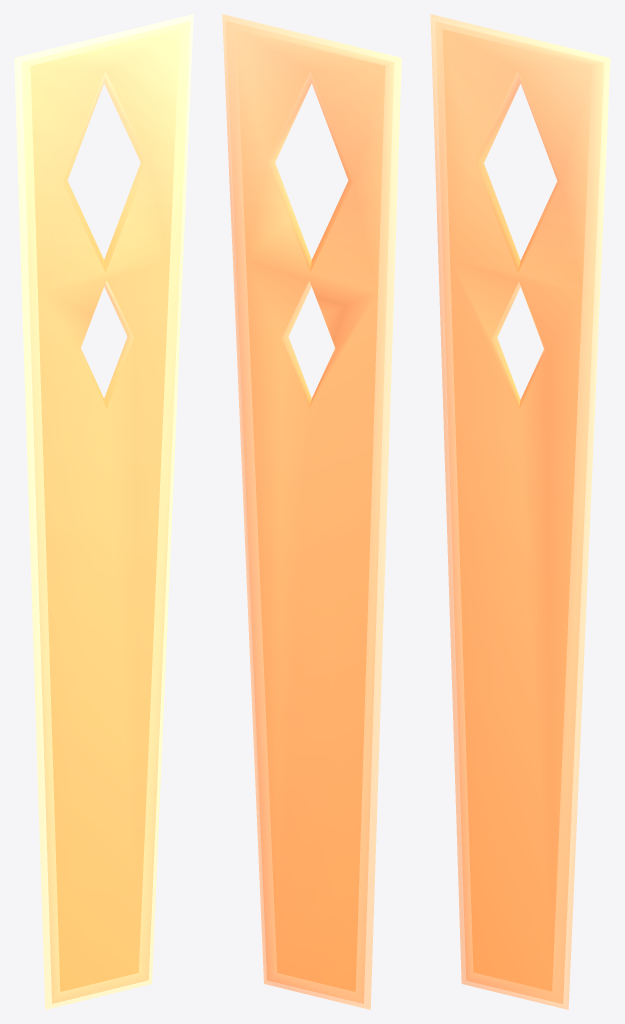
Rendered from wood_blade (3).glb.
The picture shows the model from 3 angles, left to right: view 1: azimuth 30°, elevation 25°; view 2: azimuth 150°, elevation 25°; view 3: azimuth 330°, elevation 25°; orthographic projection.
Parts seen in each view (by area): view 1: wood_blade_steel.083; view 2: wood_blade_steel.083; view 3: wood_blade_steel.083.
Boxes of the visible parts, x1,y1,x2,y2 form: wood_blade_steel.083: (14,14,193,1009); wood_blade_steel.083: (222,14,401,1009); wood_blade_steel.083: (430,14,610,1009).
Size of the model in its own units: 2.19 by 11.21 by 0.0882.
1 material, 1 textured.
